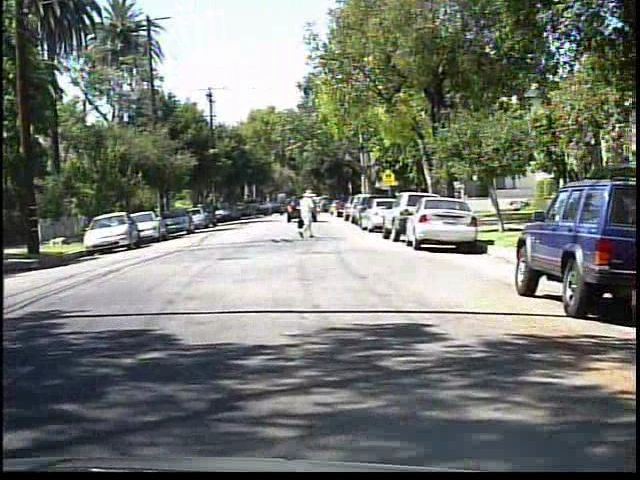person: (293, 188, 323, 241)
